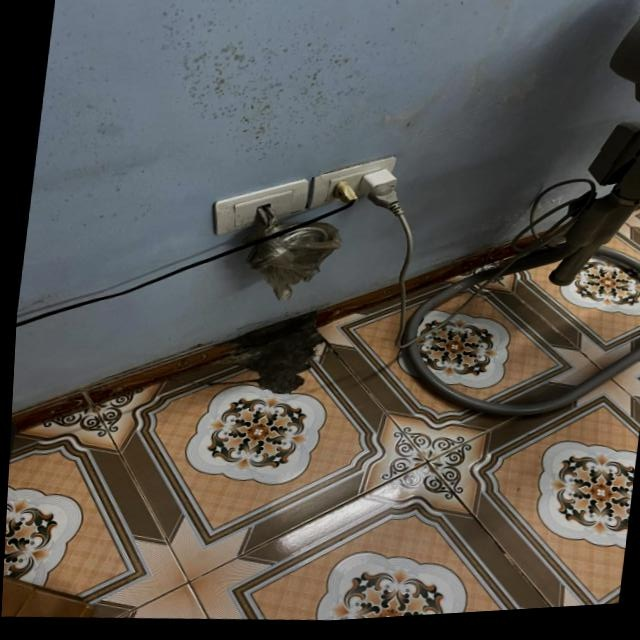outlet: (208, 174, 309, 243), (306, 151, 399, 218)
